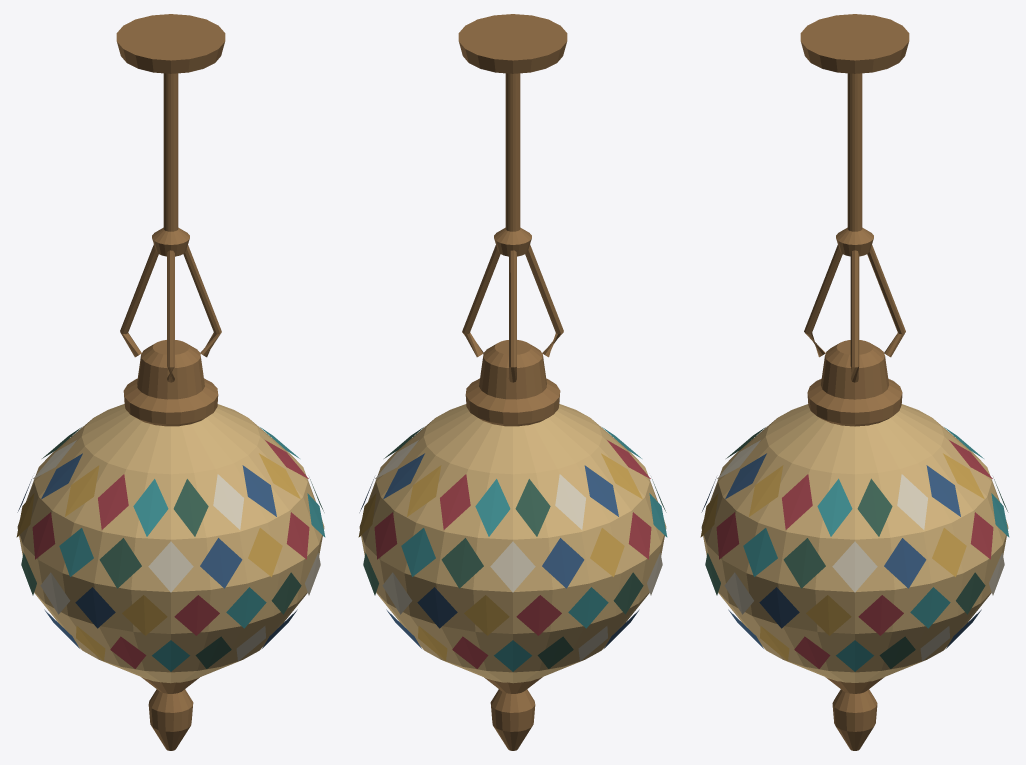
File: lantern.glb
The picture shows the model from 3 angles, left to right: view 1: azimuth 30°, elevation 25°; view 2: azimuth 150°, elevation 25°; view 3: azimuth 270°, elevation 25°; orthographic projection.
Visible parts, largest first — view 1: KervanMosaicLantern; view 2: KervanMosaicLantern; view 3: KervanMosaicLantern.
Boxes of the visible parts, x1,y1,x2,y2 form: KervanMosaicLantern: [16, 14, 325, 750]; KervanMosaicLantern: [358, 14, 667, 750]; KervanMosaicLantern: [700, 14, 1009, 750].
Size of the model in its own units: 0.376 by 0.941 by 0.376.
